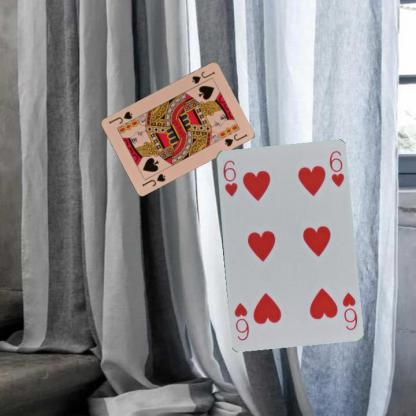6h: (220, 157, 239, 198), (339, 290, 358, 331)
Js: (139, 170, 167, 188), (190, 68, 216, 85)
